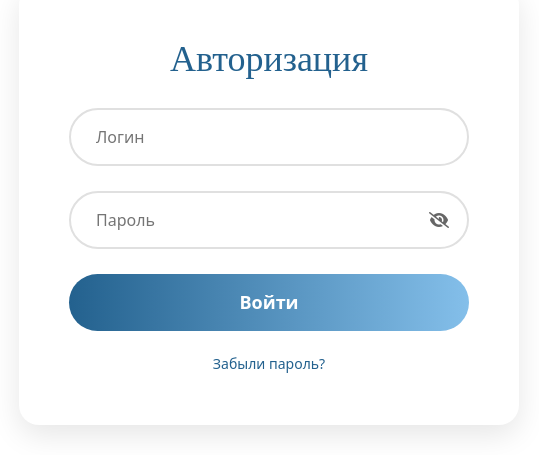
Test: Login Component › should disable inputs while loading
This screenshot has width=539, height=455.
Type "testuser" into the field with placeholder "Логин" at (269,137), box [69,108,469,166]
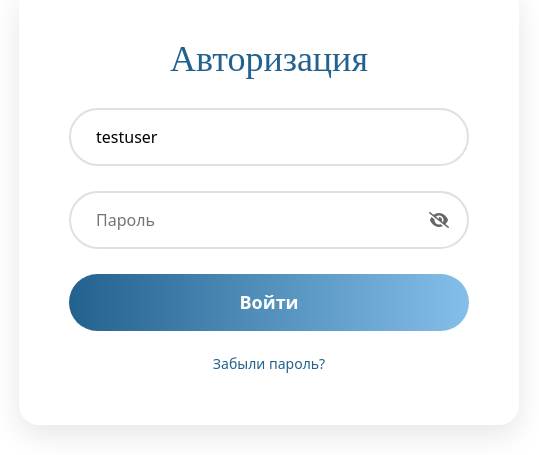
Type "password123" into the password field with placeholder "Пароль" at (269,220), box [69,191,469,249]
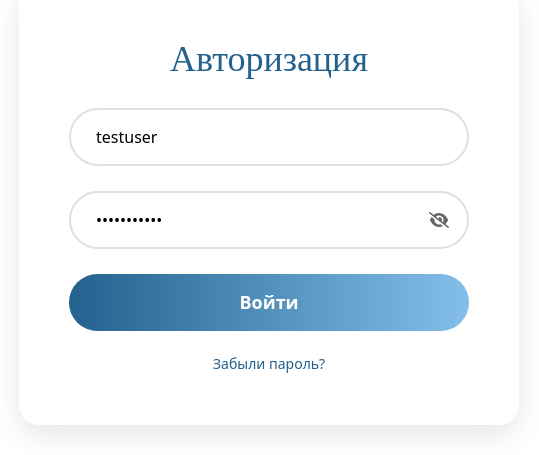
Click the button "Войти" at (269,303), box [69,274,469,331]
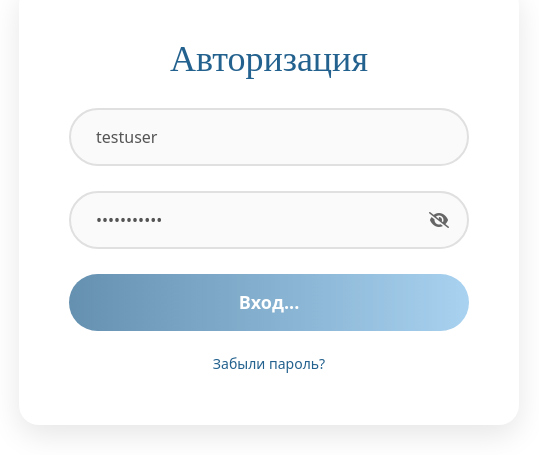
Result: the field with placeholder "Логин" is disabled at [69,108,469,166]
Result: the password field with placeholder "Пароль" is disabled at [69,191,469,249]
Result: the button "Вход..." is disabled at [69,274,469,331]
